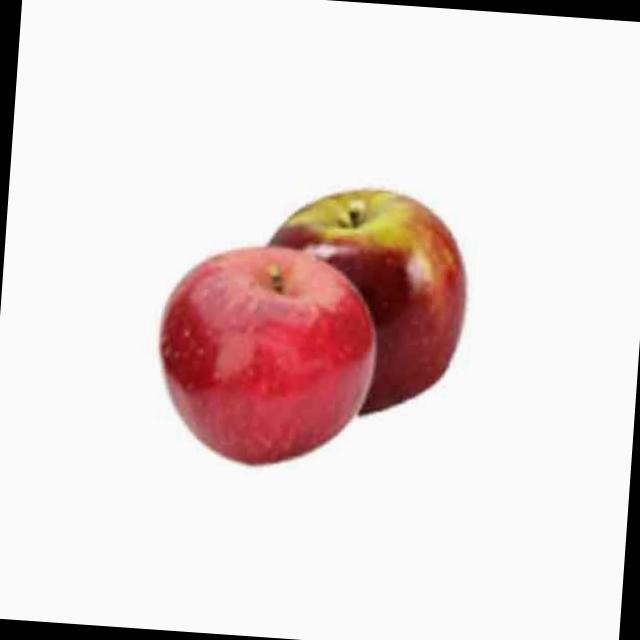apple: (244, 178, 472, 428), (148, 238, 381, 481)
